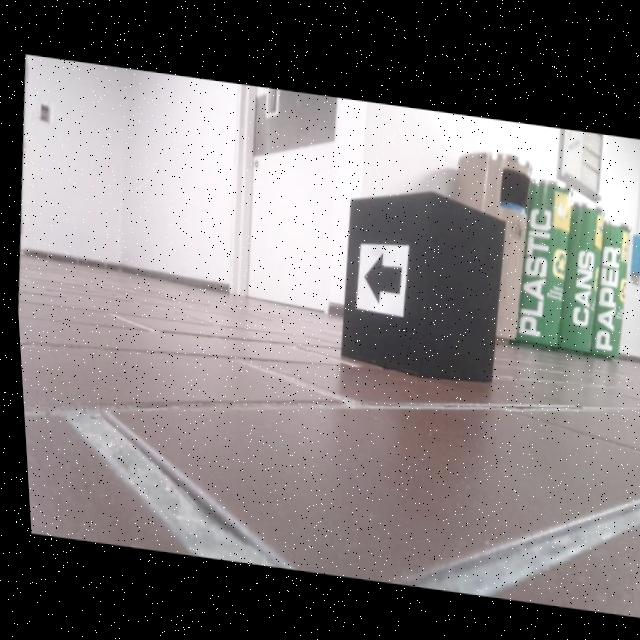LEFT: (360, 247, 399, 300)
